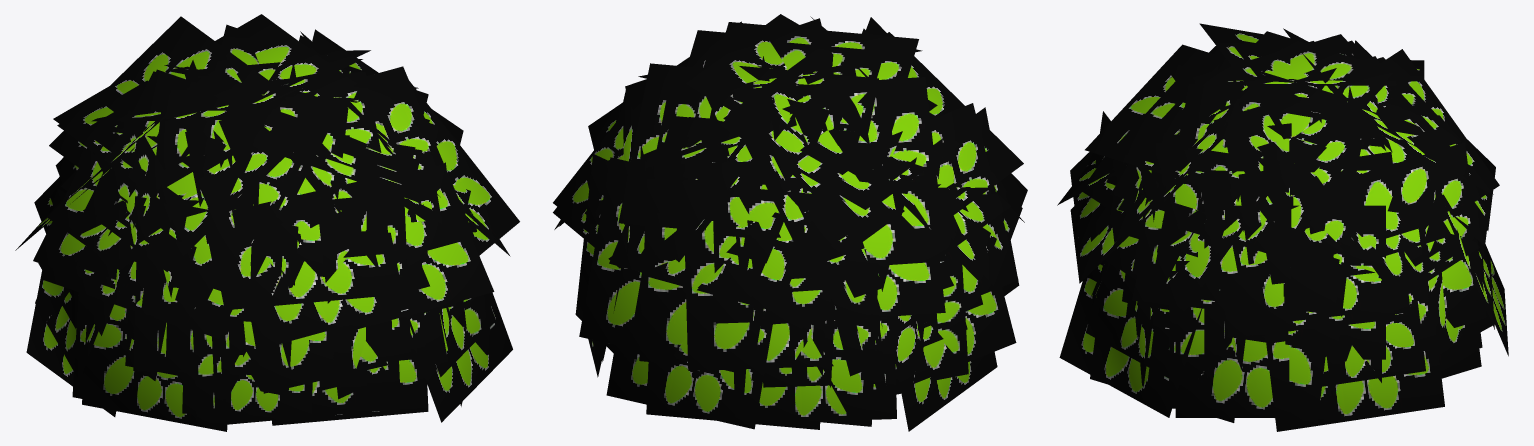
Rendered from q_Bush.glb.
3 views of the same model, side by side, from view 1: azimuth 30°, elevation 25°; view 2: azimuth 150°, elevation 25°; view 3: azimuth 270°, elevation 25° (orthographic). The views are drawn at different scales.
Visible parts, largest first — view 1: Bush_Plane.012; view 2: Bush_Plane.012; view 3: Bush_Plane.012.
Boxes of the visible parts, bbox=[...] form: Bush_Plane.012: bbox=[15, 14, 519, 431]; Bush_Plane.012: bbox=[553, 14, 1027, 431]; Bush_Plane.012: bbox=[1057, 23, 1508, 431].
Size of the model in its own units: 1.09 by 0.6916 by 1.05.
1 material, 1 textured.
